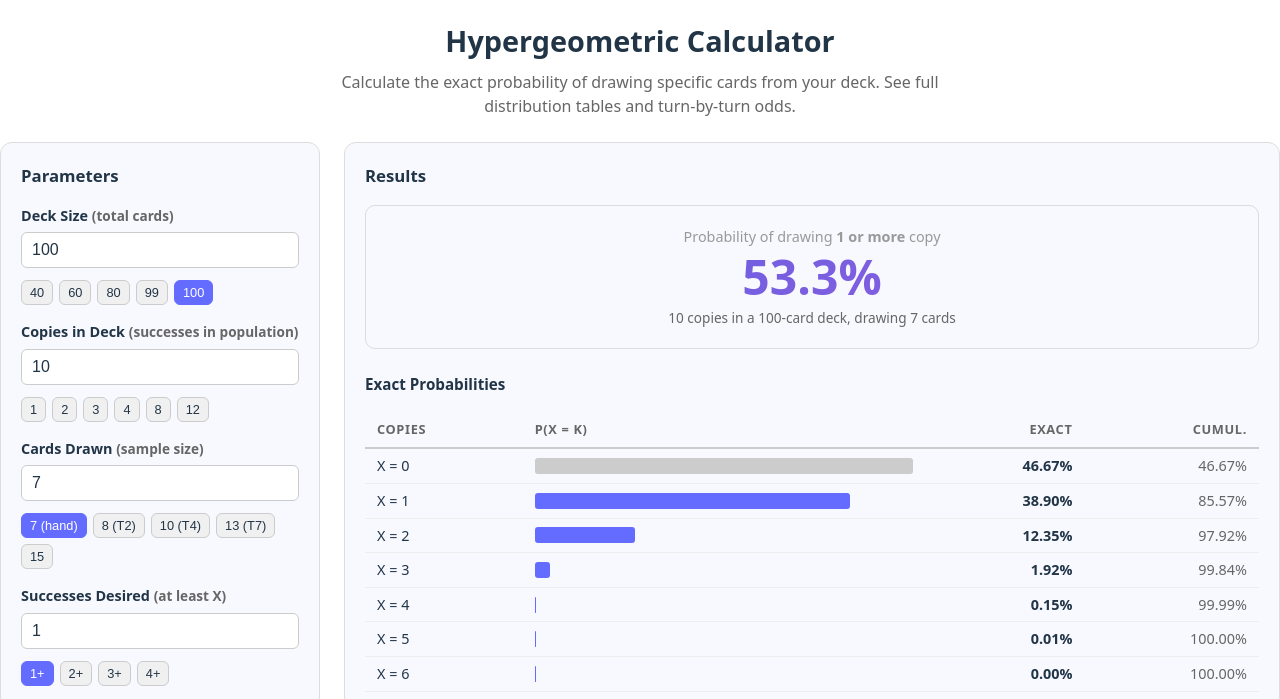
Test case: HypergeometricCalculator › clamps copies and draws to the deck size
Replace the text in the number field labelled "Deck Size (total cards)" with "40" at (160, 250), box [21,232,299,268]
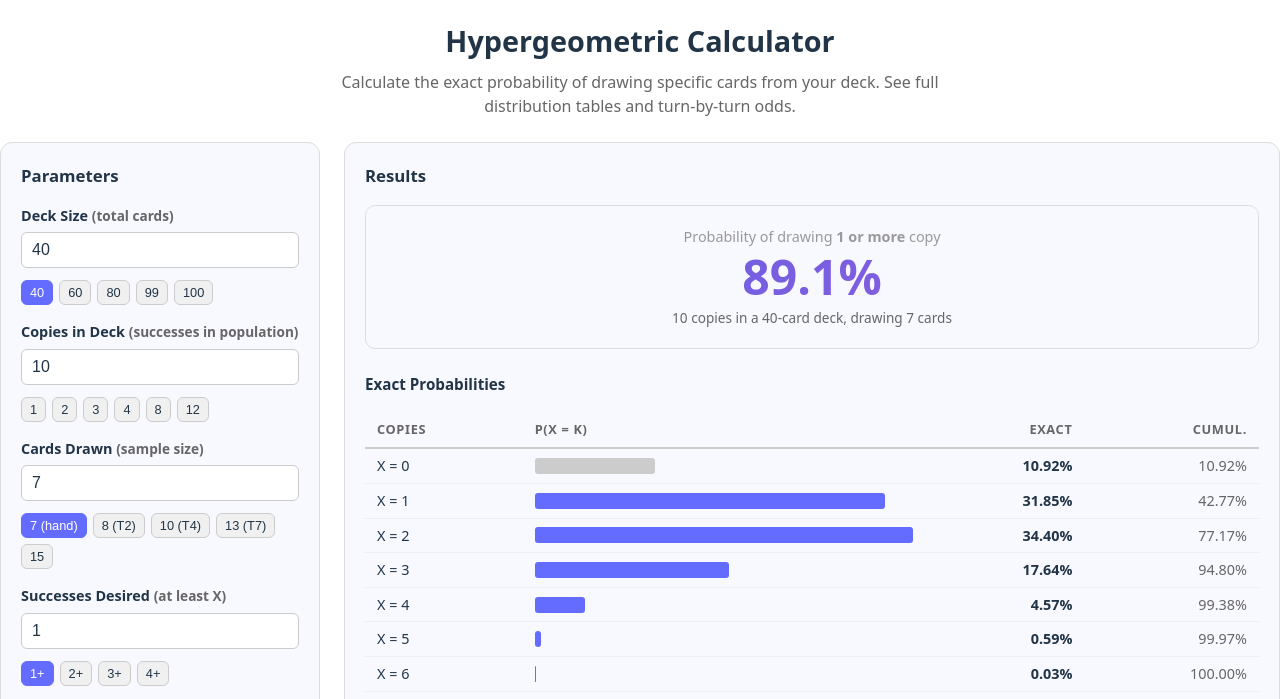
Replace the text in the number field labelled "Copies in Deck (successes in population)" with "999" at (160, 367), box [21,349,299,385]
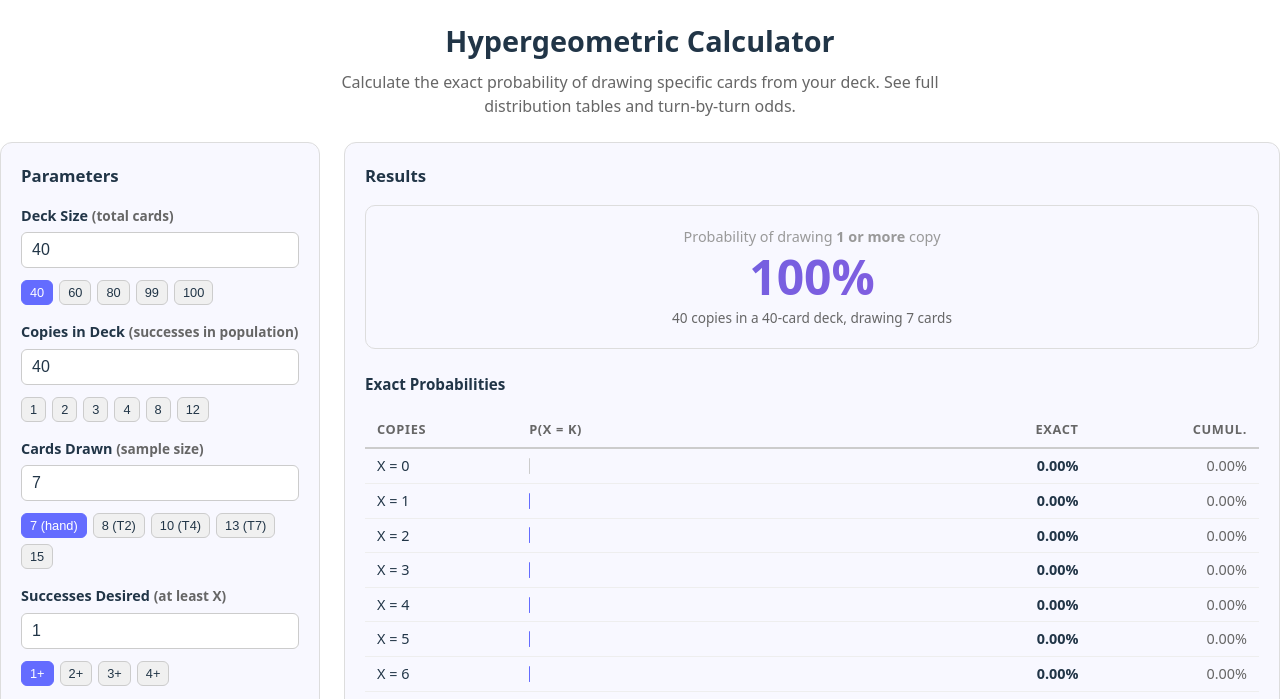
expect the number field labelled "Copies in Deck (successes in population)" holds "40": met, box [21,349,299,385]
